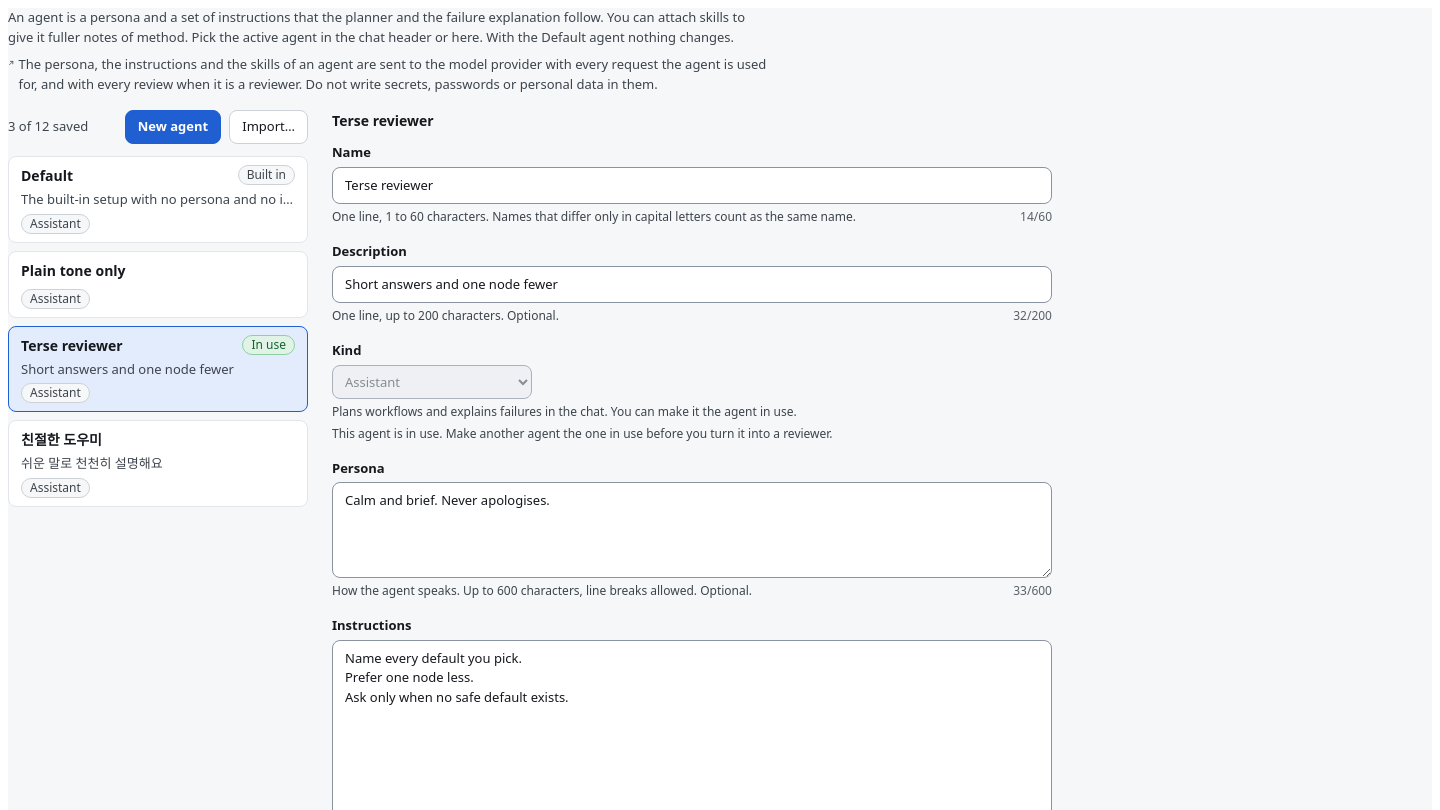
it: the review of an imported file › saves a new agent only when Save is pressed, and never switches it on
Expected: the list named "Agent list" is shown, [8,156,308,506]
Click the button "Import…" at (269, 127), box [229,110,308,144]
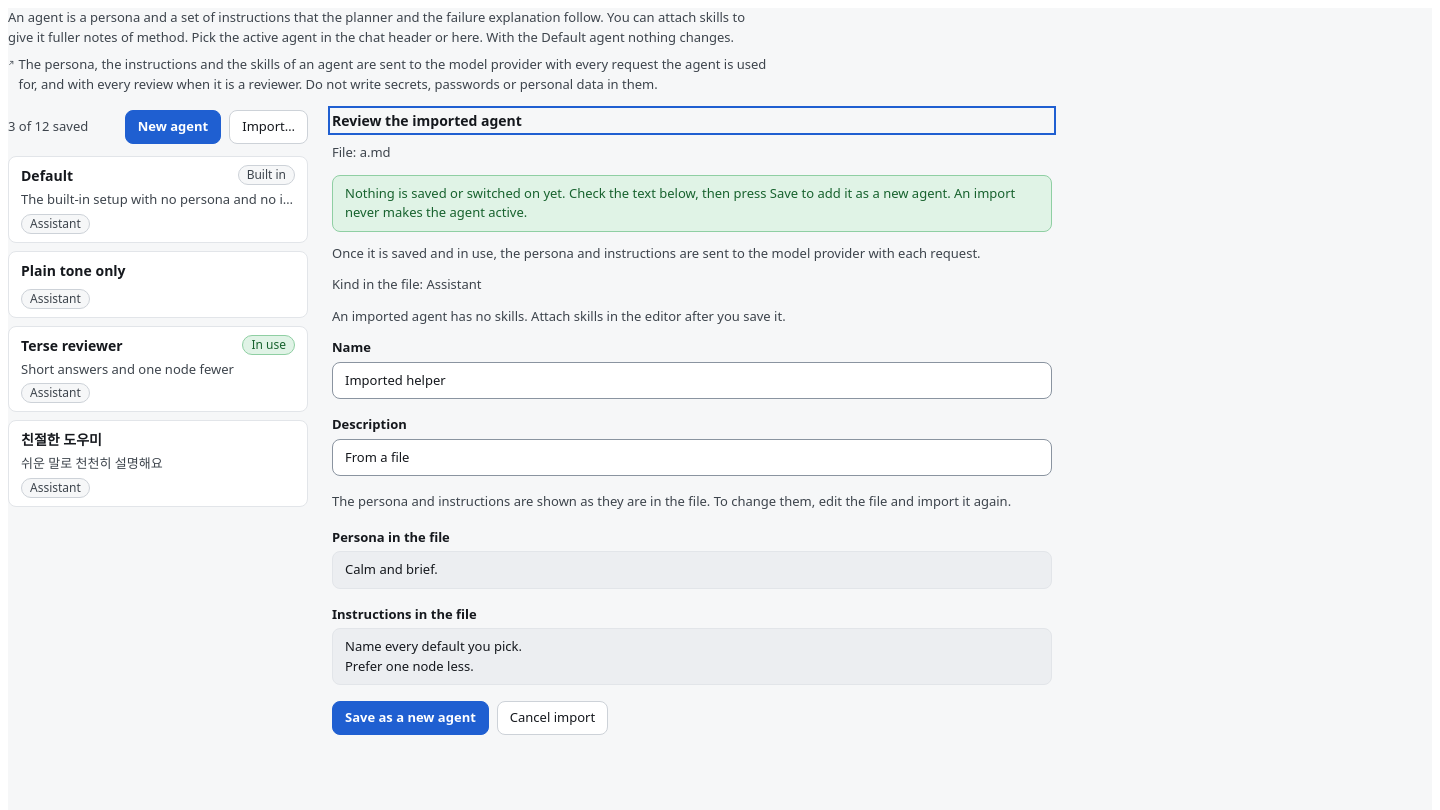
Expected: the heading "Review the imported agent" is shown, [332,111,522,130]
Click the button "Save as a new agent" at (410, 718), box [332,701,489,735]
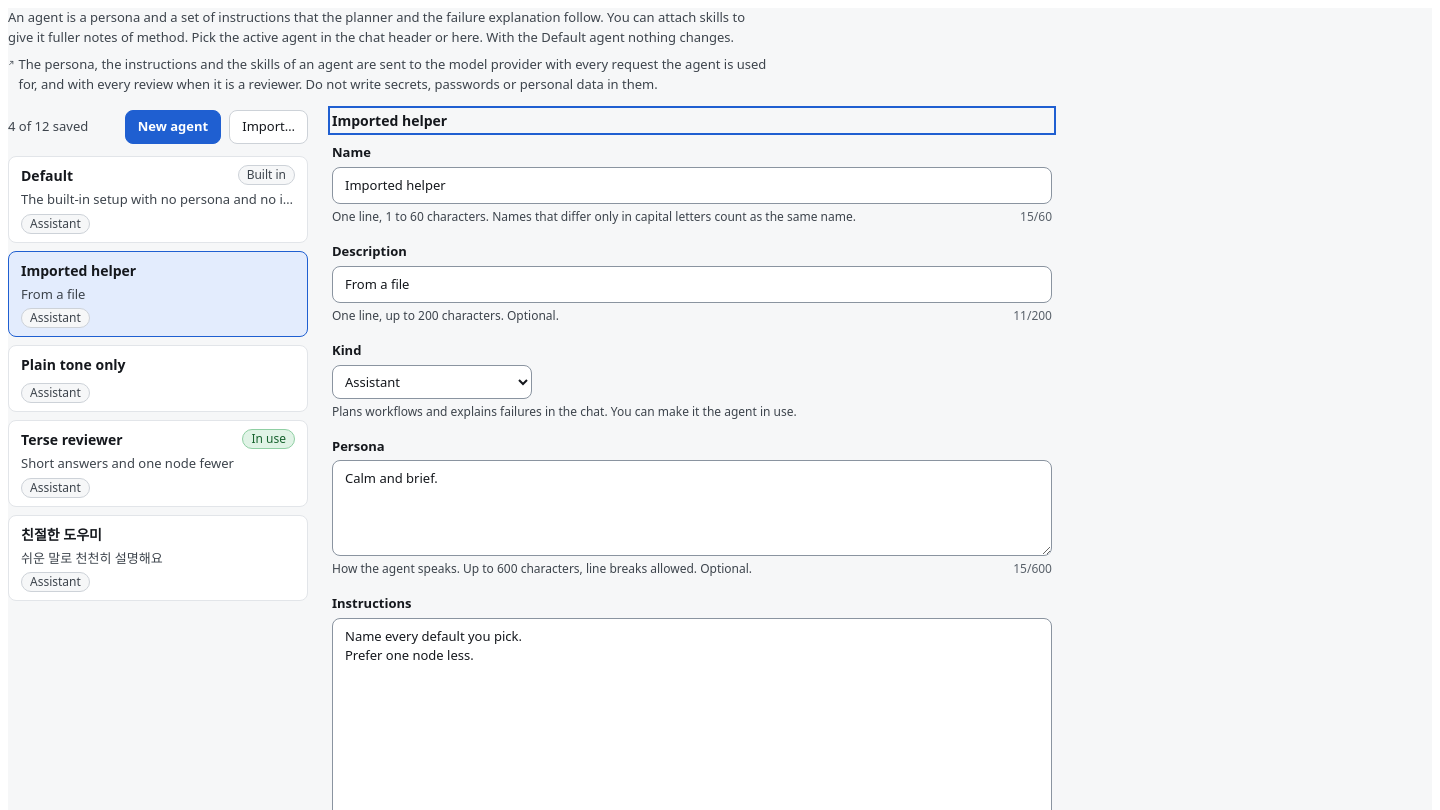
Expected: the button "Imported helper" does not show "In use"
Expected: the heading "Imported helper" is shown, [332,111,447,130]
